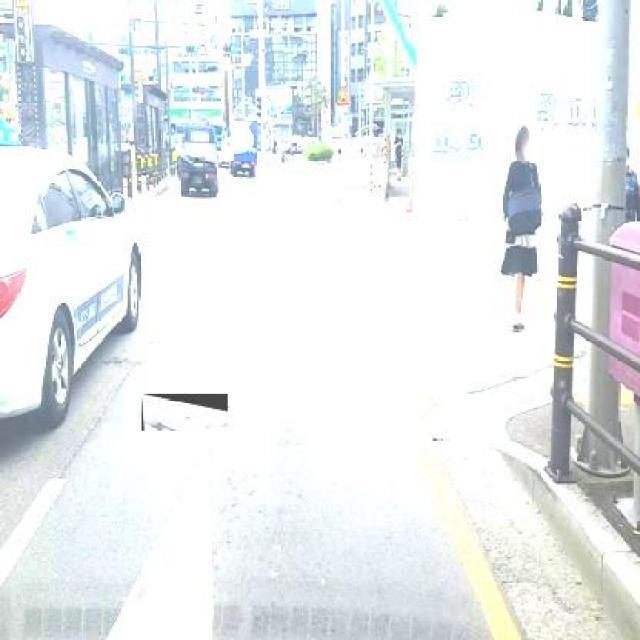Manhole: (140, 394, 228, 431)
